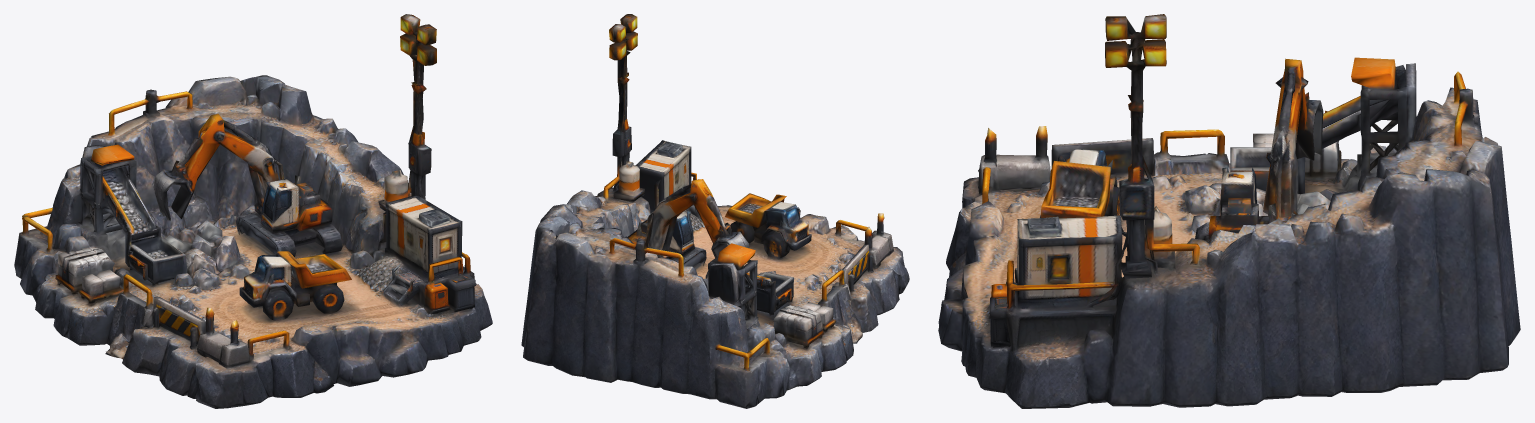
The model's file is building-quarry-l1.glb.
3 renders of one model, left to right at view 1: azimuth 30°, elevation 25°; view 2: azimuth 150°, elevation 25°; view 3: azimuth 270°, elevation 25°, orthographic. The views are drawn at different scales.
Visible parts, largest first — view 1: tripo_node_9e6bca15-99ac-4547-9107-b75a4fbe7ea4; view 2: tripo_node_9e6bca15-99ac-4547-9107-b75a4fbe7ea4; view 3: tripo_node_9e6bca15-99ac-4547-9107-b75a4fbe7ea4.
Part boxes in pixels (<box>): tripo_node_9e6bca15-99ac-4547-9107-b75a4fbe7ea4: <box>14,14,492,408</box>; tripo_node_9e6bca15-99ac-4547-9107-b75a4fbe7ea4: <box>521,14,909,408</box>; tripo_node_9e6bca15-99ac-4547-9107-b75a4fbe7ea4: <box>938,14,1520,408</box>.
Bounding box in the file's own units: 0.8744 × 0.6914 × 0.9805.
Materials: 1 (1 with a texture image).
